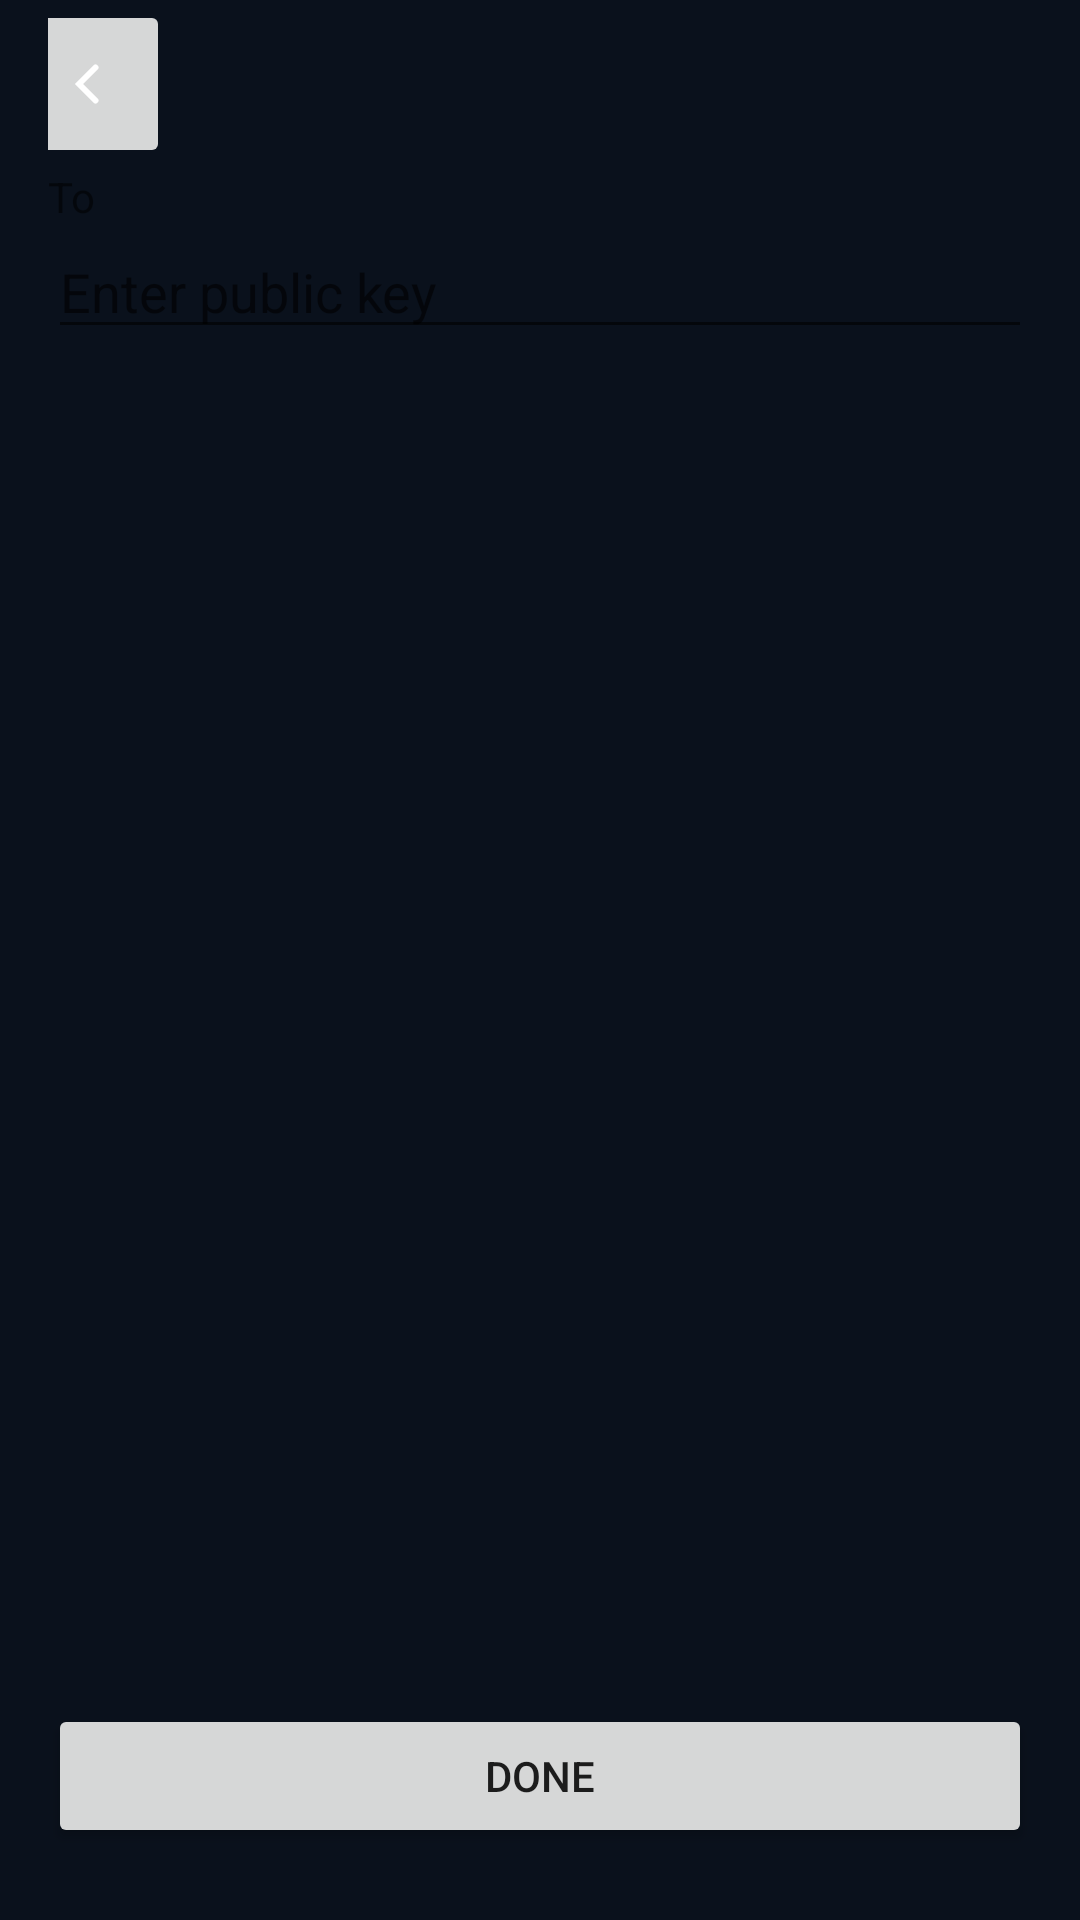

Where icons sit on this 1080 × 1920 app screen, as bbox(x1, y1, x2, y2):
back: bbox(48, 18, 158, 150)
